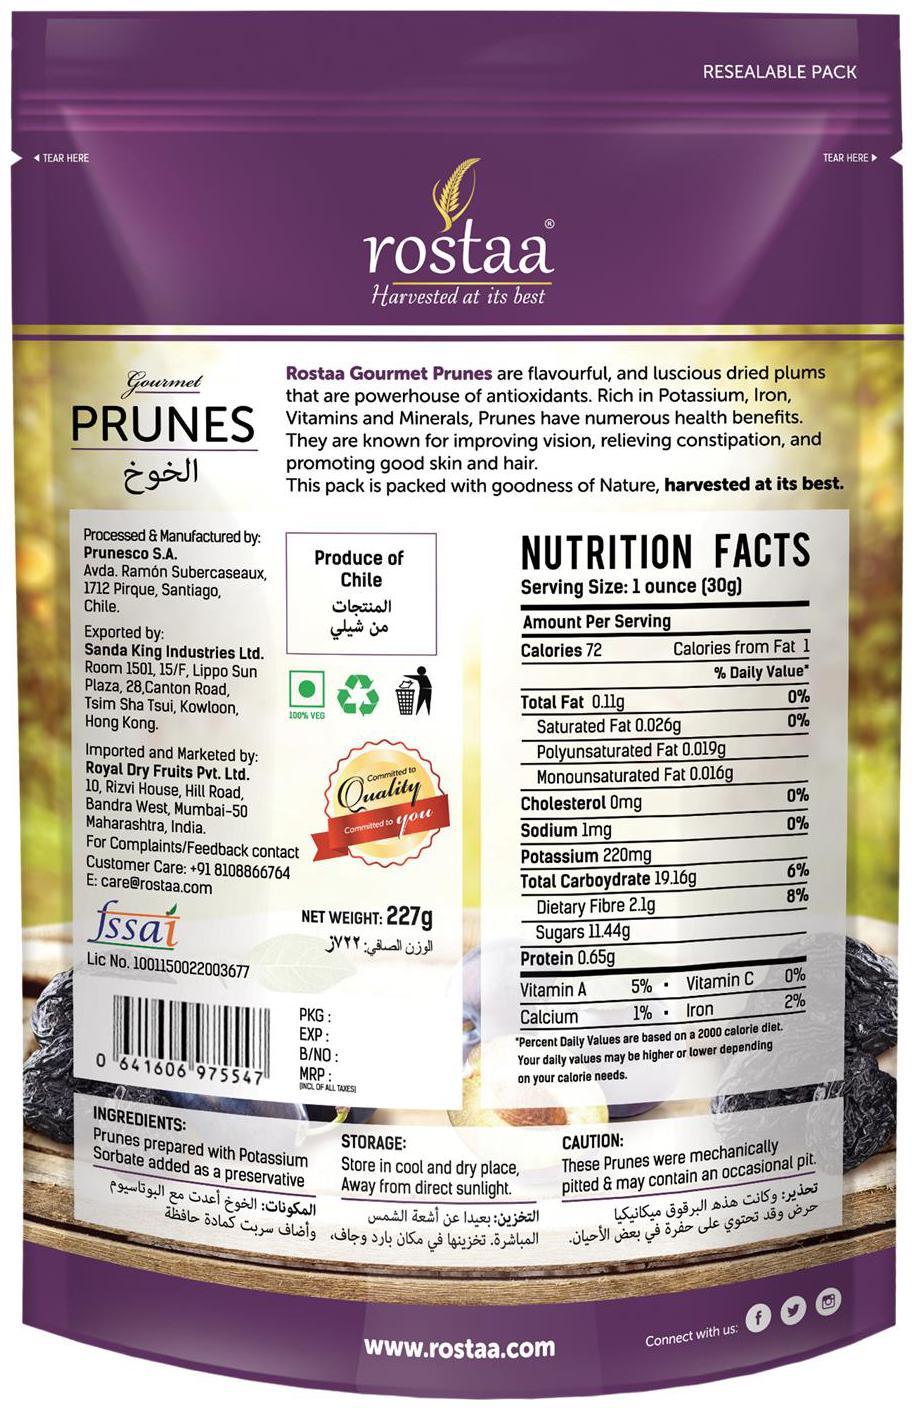fssai: (86, 899, 180, 953)
